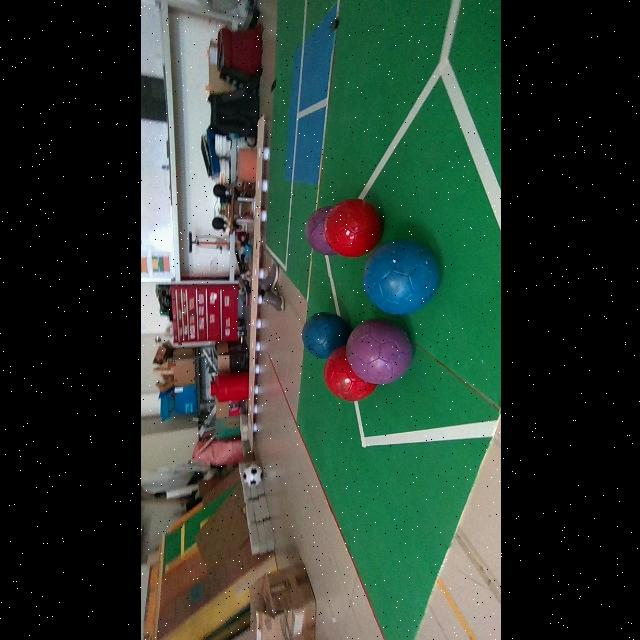B: (362, 240, 439, 314), (301, 311, 348, 358)
P: (345, 319, 411, 384), (304, 206, 335, 255)
R: (323, 199, 381, 258), (323, 345, 376, 401)
